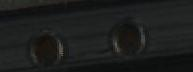joints: (108, 13, 149, 58), (27, 25, 67, 68)
